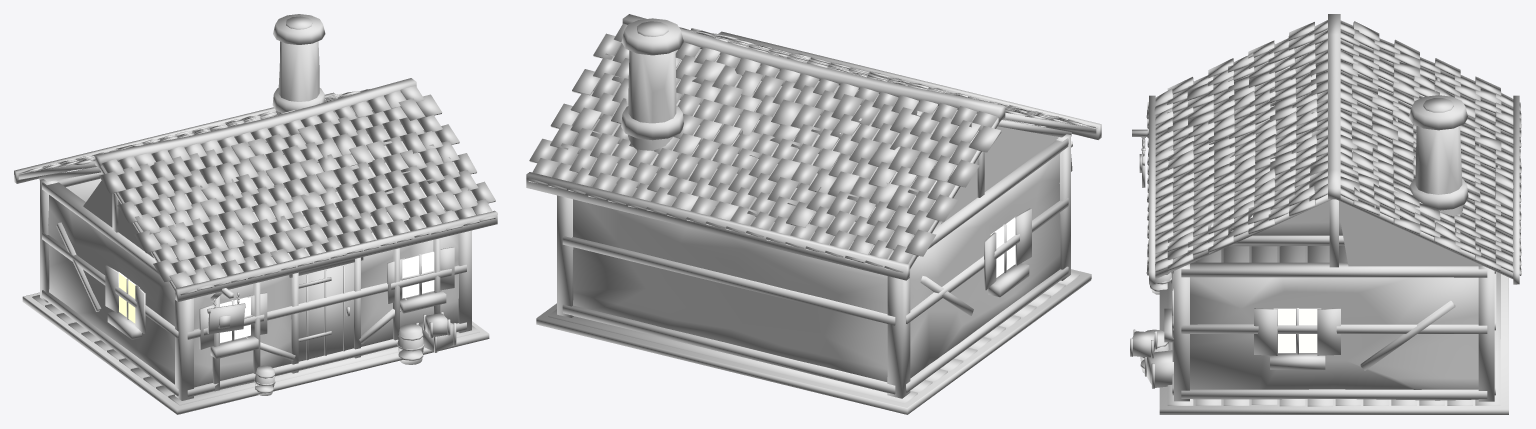
The model's file is tavern_LOD2.glb.
The picture shows the model from 3 angles, left to right: view 1: azimuth 30°, elevation 25°; view 2: azimuth 150°, elevation 25°; view 3: azimuth 270°, elevation 25°; orthographic projection. The views are drawn at different scales.
Visible parts, largest first — view 1: tavern_LOD2; view 2: tavern_LOD2; view 3: tavern_LOD2.
Part boxes in pixels (x1,y1,x2,y2): tavern_LOD2: (14, 14, 497, 414); tavern_LOD2: (526, 14, 1101, 414); tavern_LOD2: (1130, 14, 1521, 414).
Bounding box in the file's own units: 9.05 × 6.32 × 8.18.
